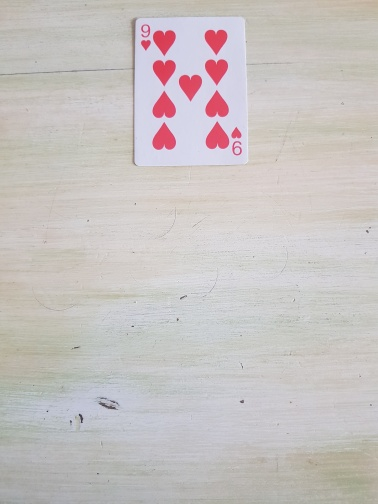nine: (133, 15, 250, 167)
